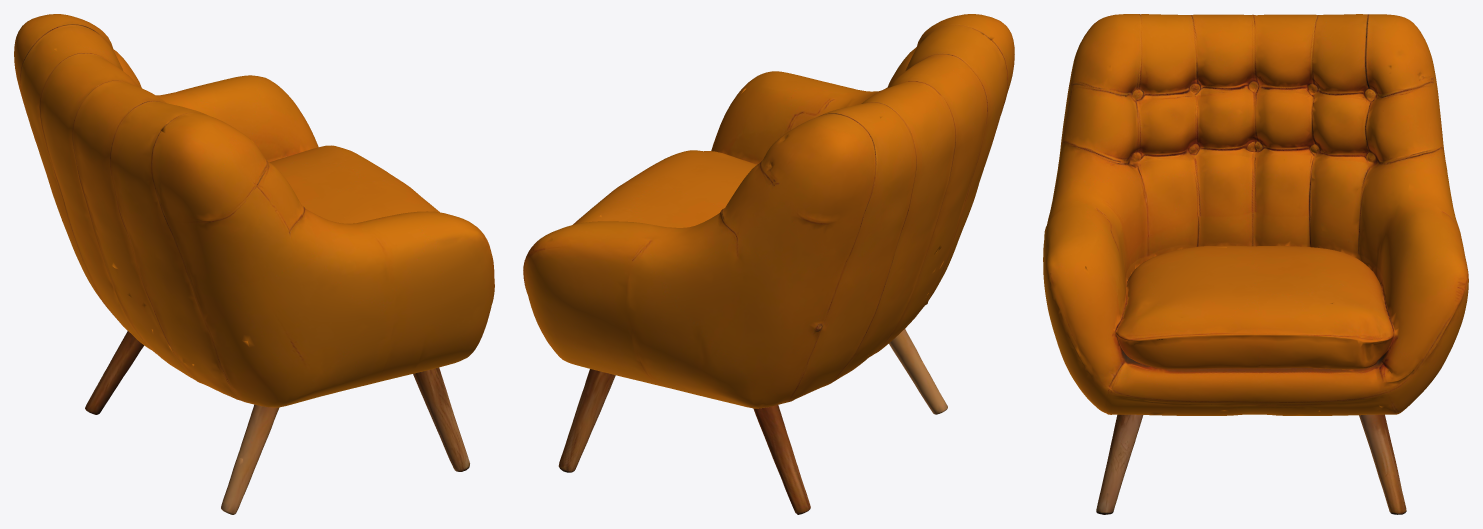
The model's file is orangearmchair.glb.
The picture shows the model from 3 angles, left to right: view 1: azimuth 30°, elevation 25°; view 2: azimuth 150°, elevation 25°; view 3: azimuth 270°, elevation 25°; orthographic projection. The views are drawn at different scales.
Parts seen in each view (by area): view 1: tripo_node_e35aaf6c-662f-4b9b-9fcc-46d7b9597ccb; view 2: tripo_node_e35aaf6c-662f-4b9b-9fcc-46d7b9597ccb; view 3: tripo_node_e35aaf6c-662f-4b9b-9fcc-46d7b9597ccb.
Boxes of the visible parts, left/top/right/bottom form: tripo_node_e35aaf6c-662f-4b9b-9fcc-46d7b9597ccb: left=14, top=14, right=494, bottom=514; tripo_node_e35aaf6c-662f-4b9b-9fcc-46d7b9597ccb: left=523, top=14, right=1014, bottom=514; tripo_node_e35aaf6c-662f-4b9b-9fcc-46d7b9597ccb: left=1043, top=14, right=1468, bottom=514.
Bounding box in the file's own units: 0.8787 × 0.9829 × 1.
Materials: 1 (1 with a texture image).
